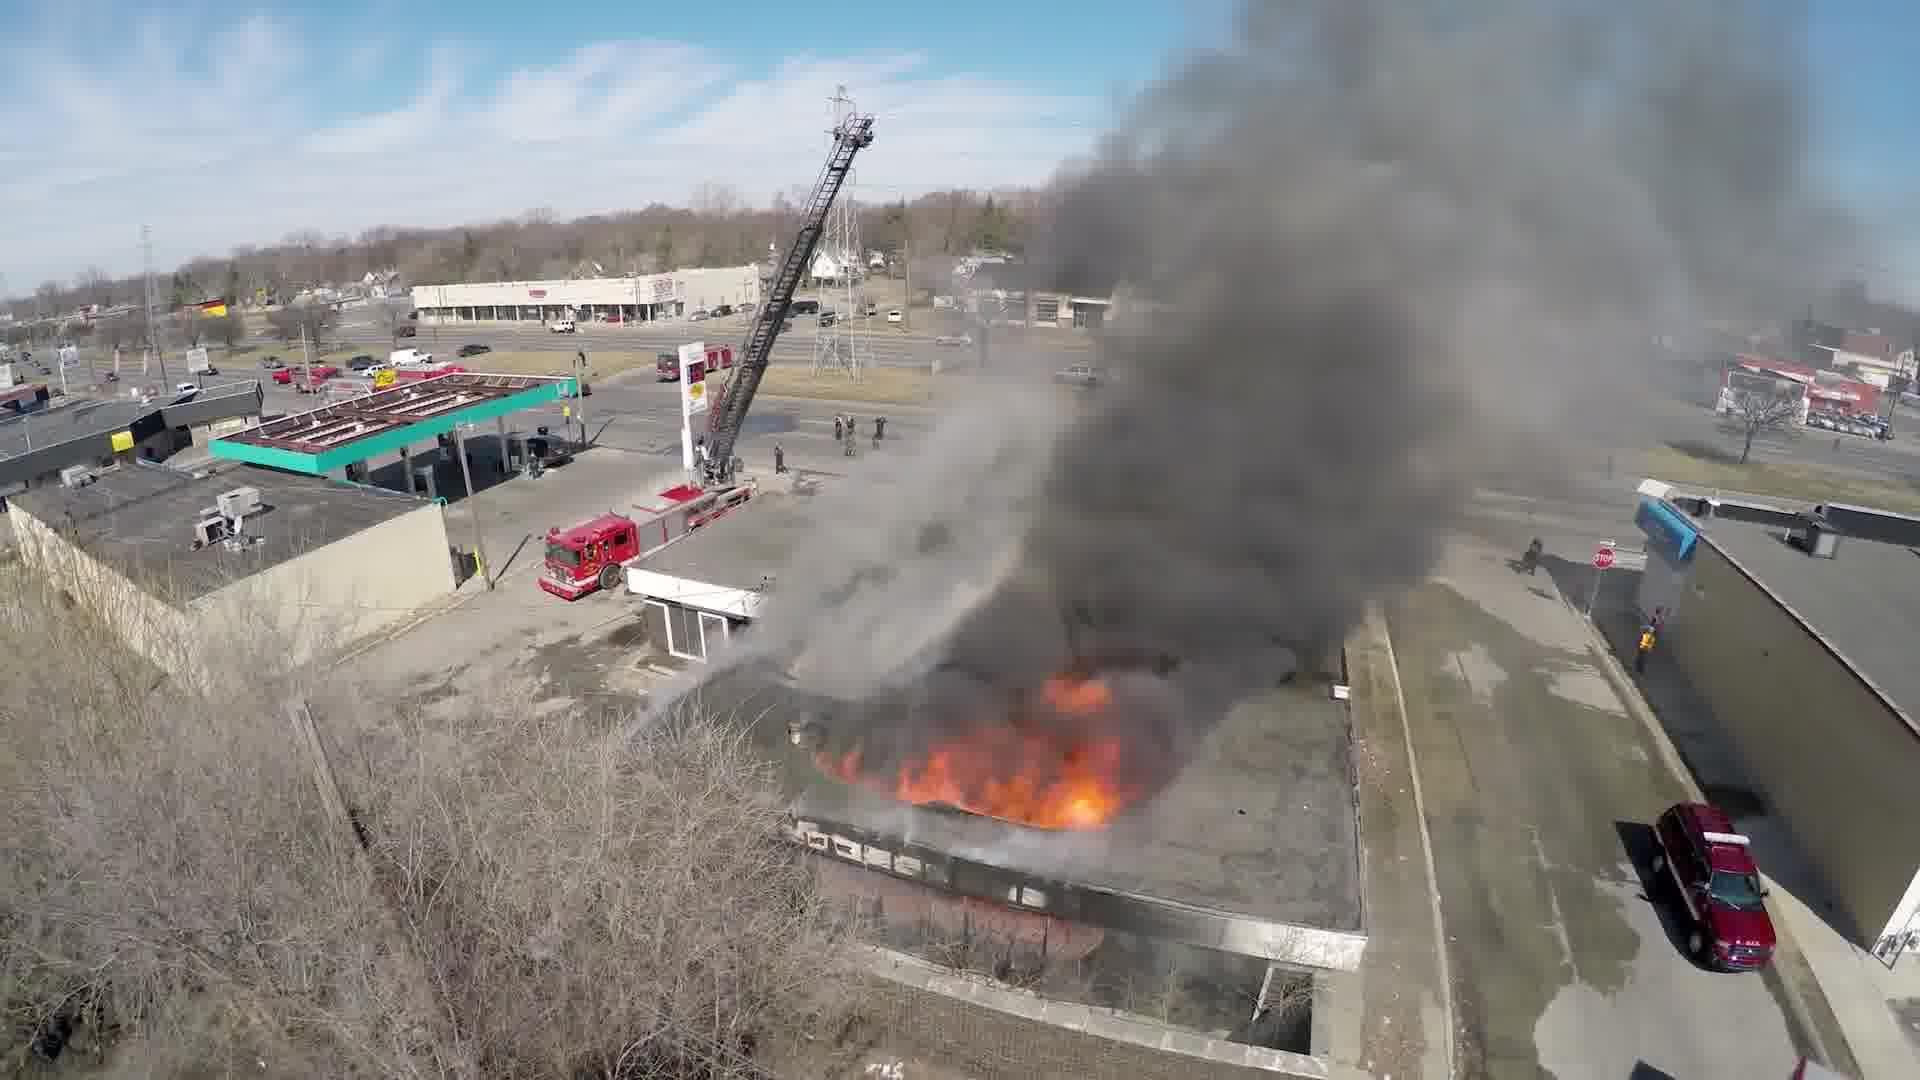fire: (844, 744, 1131, 832)
smoke: (1203, 32, 1780, 348), (1079, 359, 1457, 587), (963, 601, 1245, 721)
